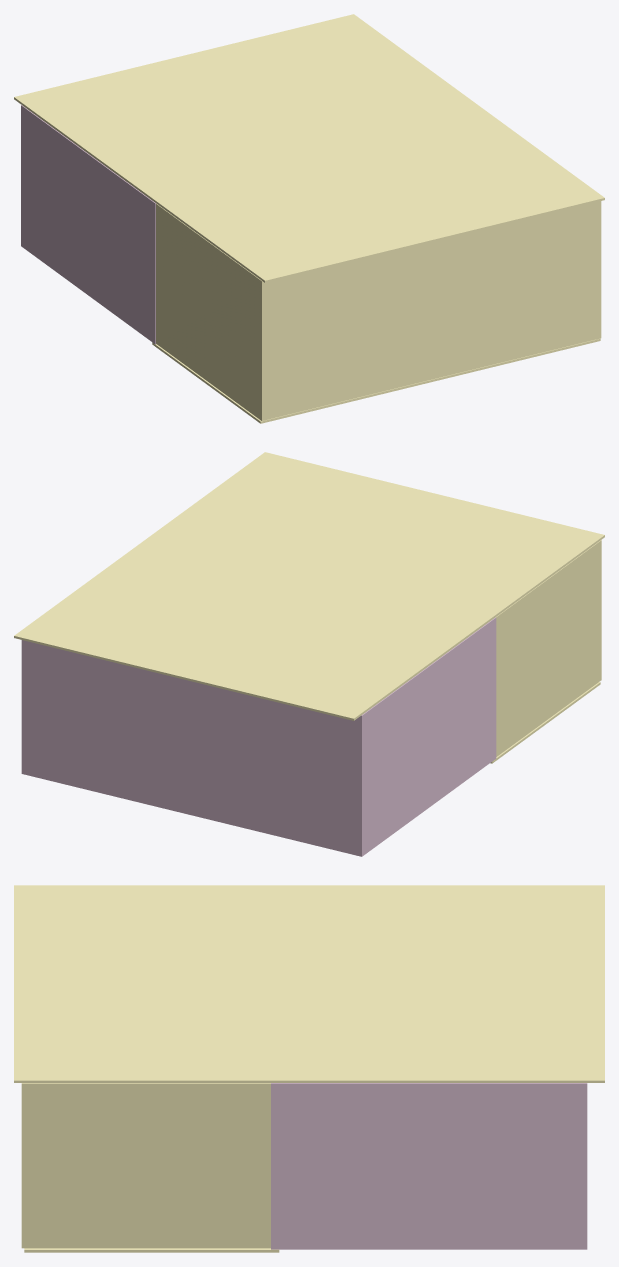
The model's file is ESC_2_completa.fbx.
3 renders of one model, top to bottom at view 1: azimuth 30°, elevation 25°; view 2: azimuth 150°, elevation 25°; view 3: azimuth 270°, elevation 25°, orthographic. The views are drawn at different scales.
Parts seen in each view (by area): view 1: escenacompleta; view 2: escenacompleta; view 3: escenacompleta.
Part boxes in pixels (x1,y1,x2,y2): escenacompleta: (14, 14, 604, 423); escenacompleta: (14, 452, 604, 856); escenacompleta: (14, 885, 604, 1252).
Size of the model in its own units: 61.19 by 25.11 by 78.16.
